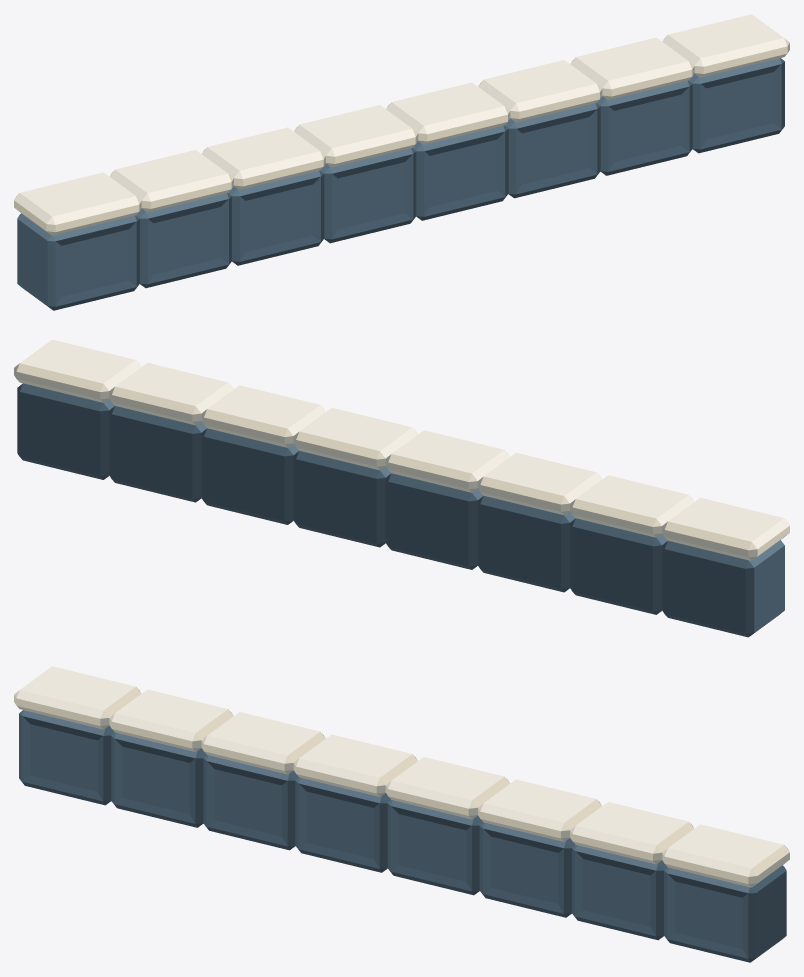
Rendered from Terrain_TopRun8LR.gltf.
The picture shows the model from 3 angles, top to bottom: view 1: azimuth 30°, elevation 25°; view 2: azimuth 150°, elevation 25°; view 3: azimuth 330°, elevation 25°; orthographic projection.
Parts seen in each view (by area): view 1: Terrain_TopRun8LR_baked; view 2: Terrain_TopRun8LR_baked; view 3: Terrain_TopRun8LR_baked.
Boxes of the visible parts, x1,y1,x2,y2 form: Terrain_TopRun8LR_baked: (14,14,789,310); Terrain_TopRun8LR_baked: (14,339,789,637); Terrain_TopRun8LR_baked: (14,666,789,962).
Size of the model in its own units: 8.07 by 1 by 0.735.
